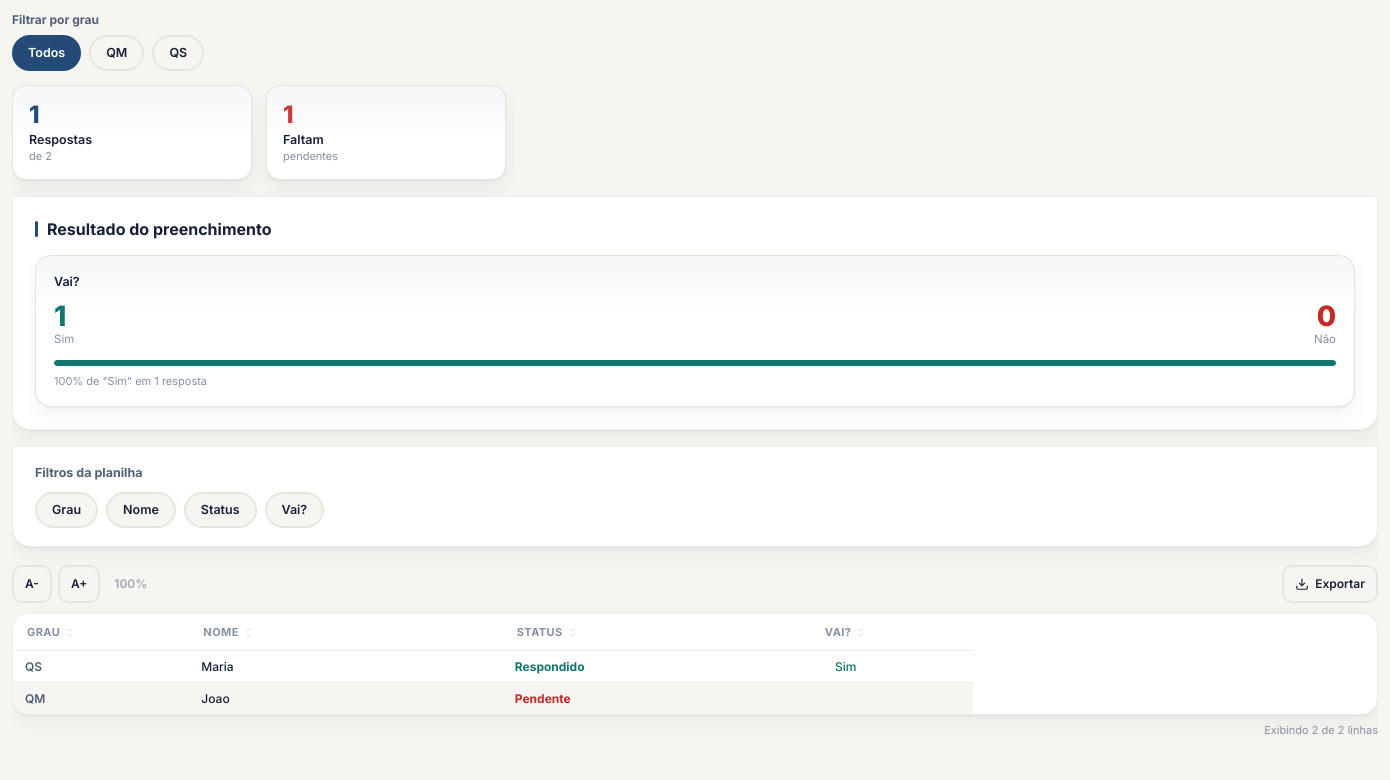
ResultsScreen › permite ajustar o zoom interno da planilha por botoes no desktop
This screenshot has width=1390, height=780.
Expected: the button "100%" is disabled, [106,565,155,603]
Click the button named "Aumentar zoom da planilha" at (79, 584), box [58,565,100,603]
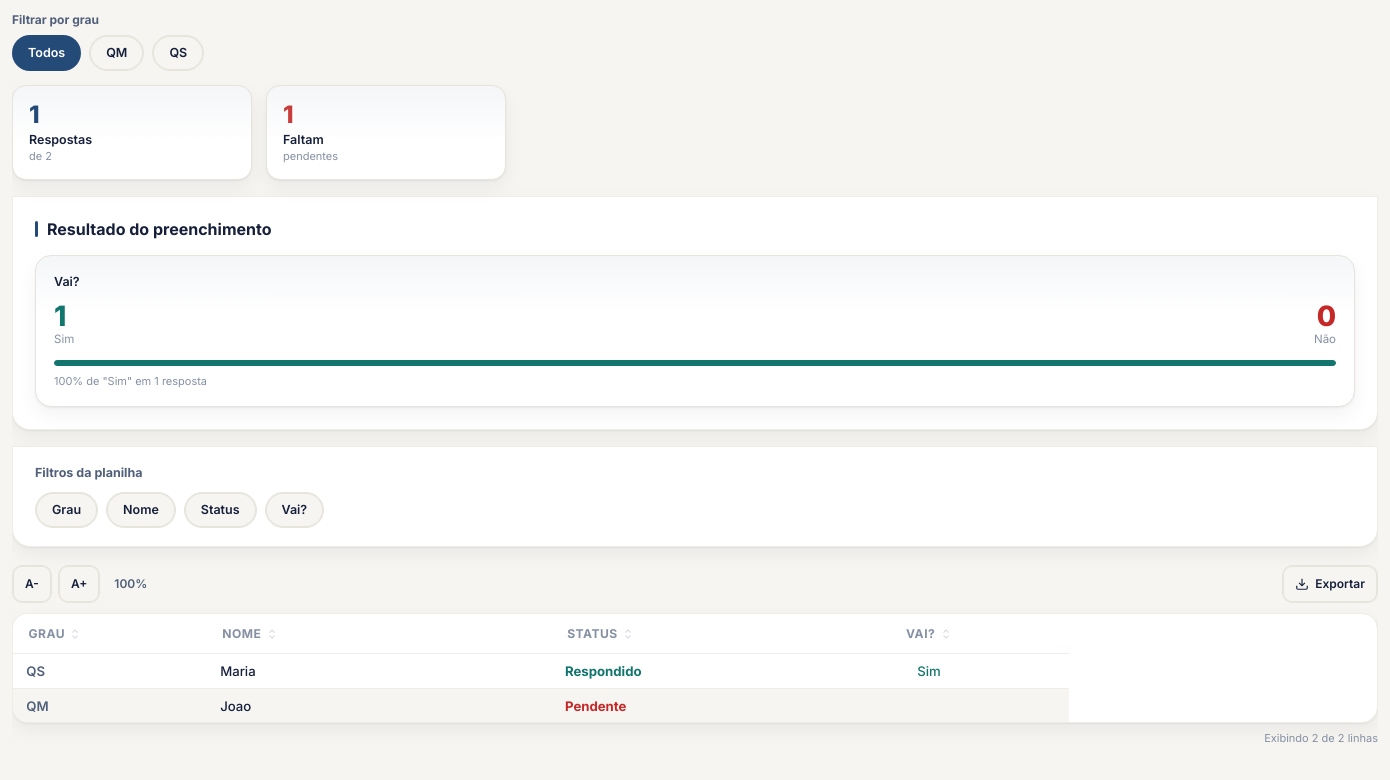
Expected: the button "100%" is enabled, [106,565,155,603]
Click the button named "Diminuir zoom da planilha" at (32, 584), box [12,565,52,603]
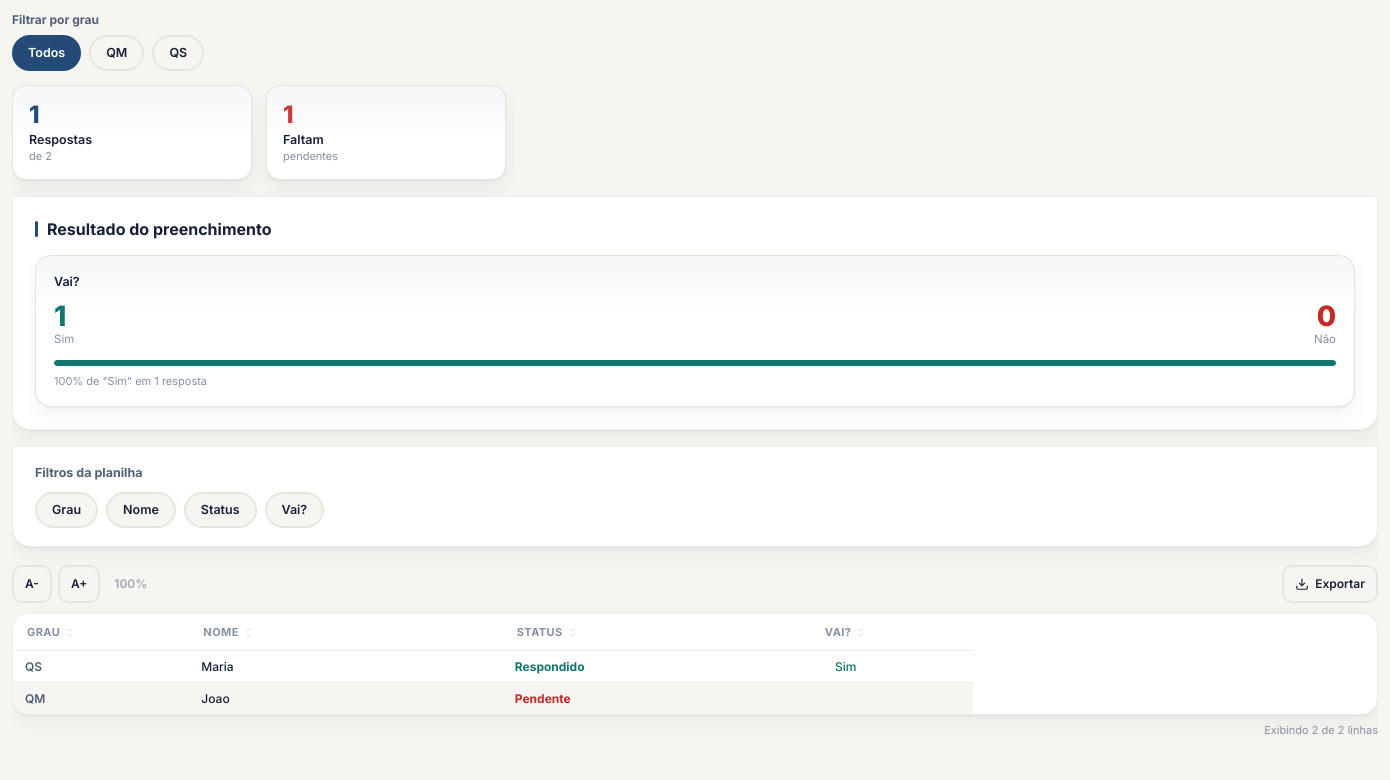
Expected: the button "100%" is disabled, [106,565,155,603]
